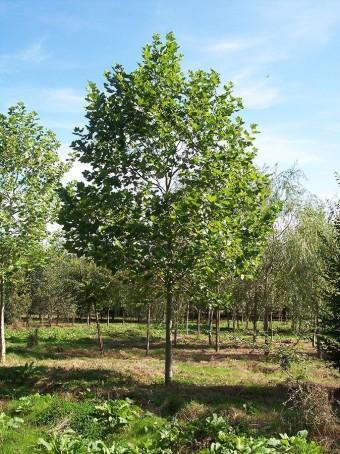tree: (59, 32, 285, 378)
